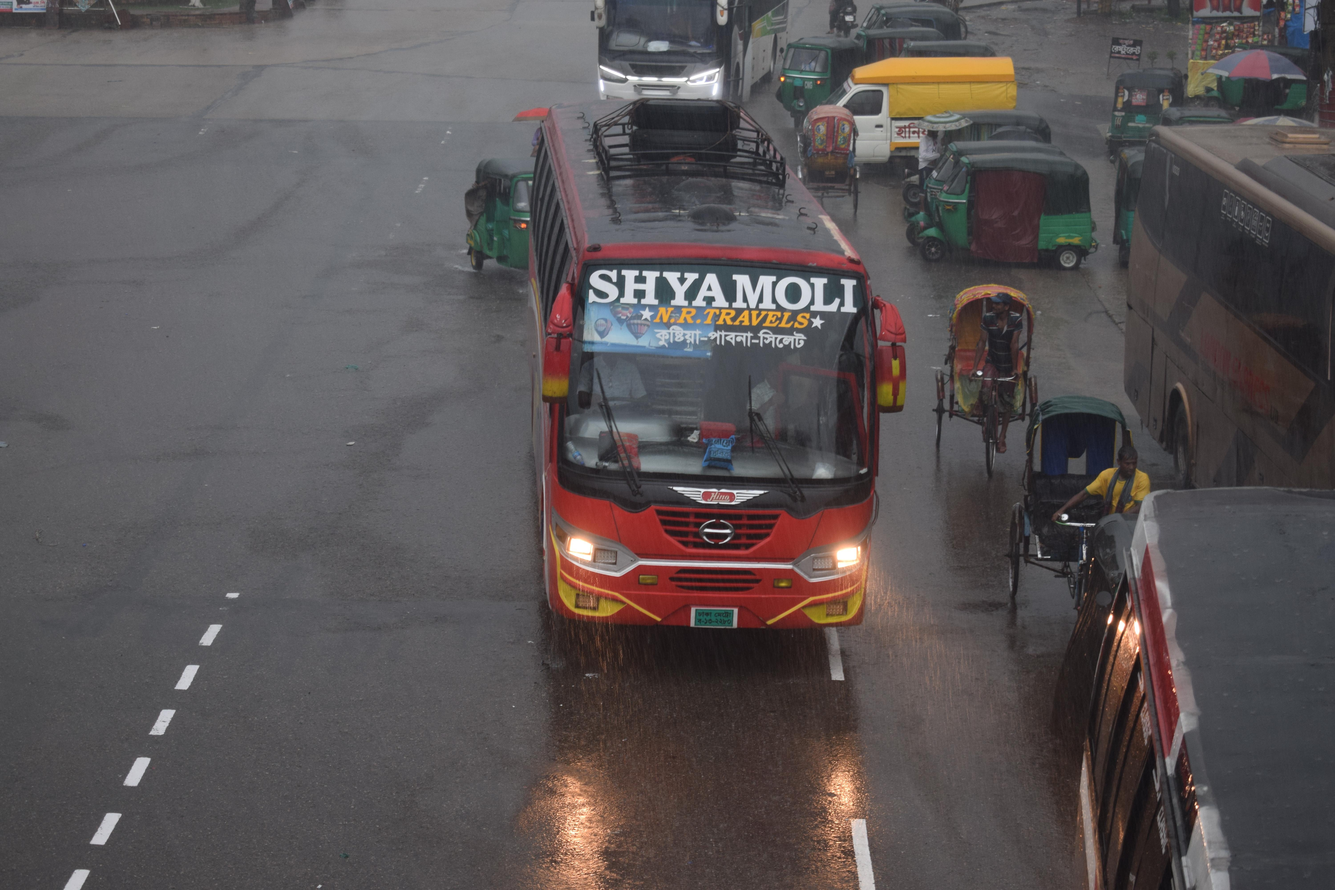Car: (985, 385, 1160, 634), (783, 30, 1042, 157), (911, 267, 1065, 466), (783, 90, 879, 202)
